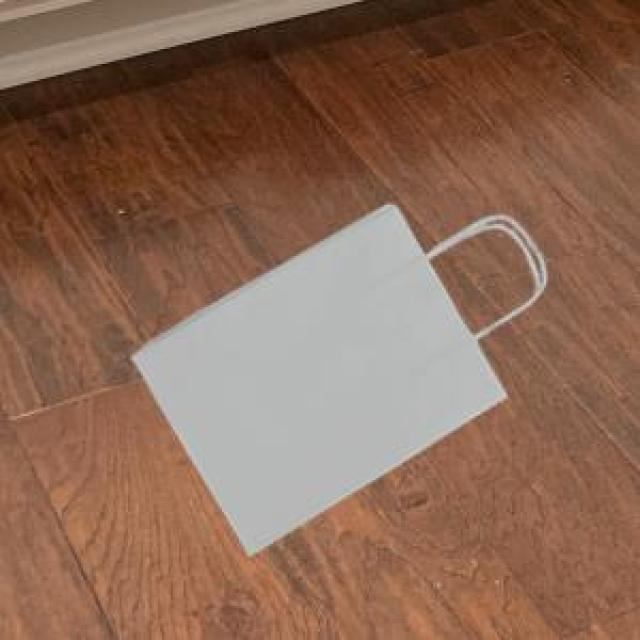paper: (128, 201, 542, 550)
